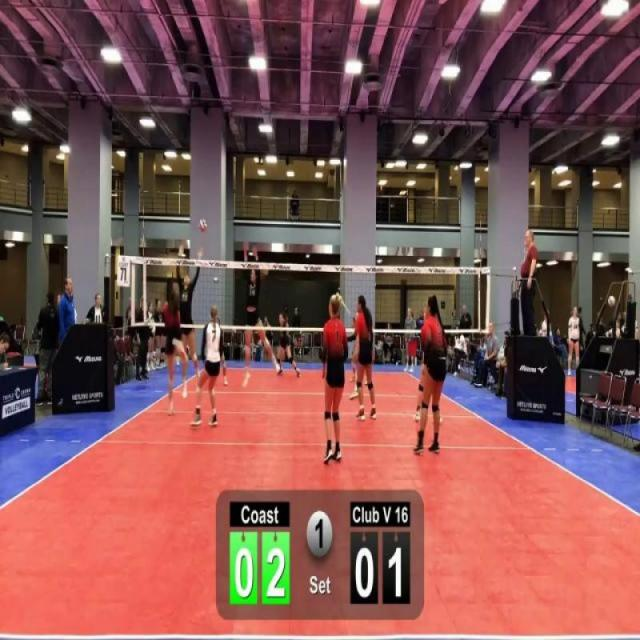volleyball: (197, 217, 208, 235), (606, 294, 616, 310)
